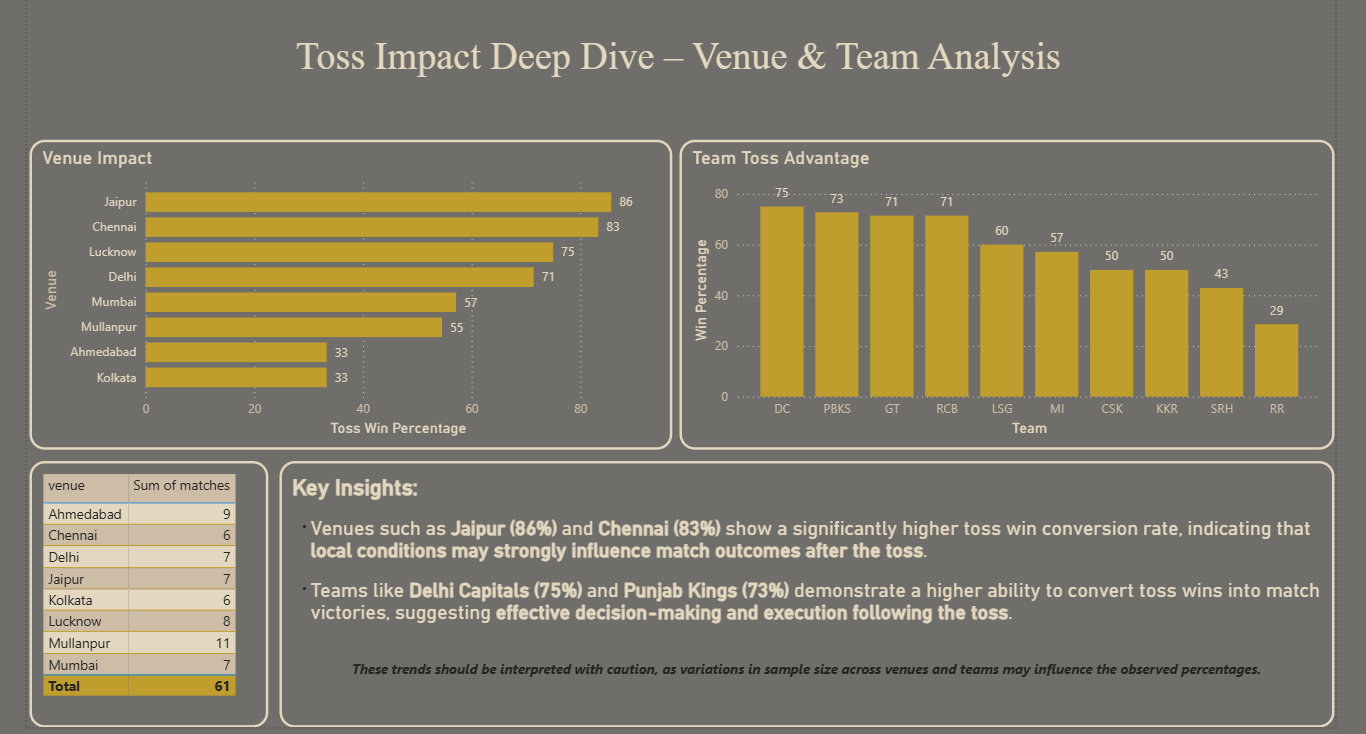

This screenshot's page, from the dashboard's own definition file:
{"tool":"powerbi","page":{"name":"venue and team","canvas":[1280,720],"ordinal":1},"visuals":[{"type":"barChart","title":"Venue Impact","fields":{"Category":["venue_impact.venue"],"Y":["Sum(venue_impact.toss_win_pct)"]},"box":[2.4,145.5,628.5,303.3],"z":0},{"type":"columnChart","title":"Team Toss Advantage","fields":{"Category":["team_impact.team"],"Y":["Sum(team_impact.win_pct)"]},"box":[638.3,145.5,640.8,303.3],"z":1000},{"type":"tableEx","title":"Matches by Venue (Sample Size)","fields":{"Values":["venue_impact.venue","Sum(venue_impact.matches)"]},"box":[2.7,459.7,233.3,260.7],"z":2000},{"type":"textbox","box":[247,459.8,1032.1,260.5],"z":3000},{"type":"textbox","box":[258,36.7,786.3,74.6],"z":4000}]}

Visuals, with their boxes on the page's 1280x720 design canvas (x1, y1, x2, y2). These are canvas units, not pixel positions in the 1366x734 screenshot, which may show the page scaled, cropped or inside an application window:
"Venue Impact" barChart: bbox(2, 146, 631, 449)
"Team Toss Advantage" columnChart: bbox(638, 146, 1279, 449)
"Matches by Venue (Sample Size)" tableEx: bbox(3, 460, 236, 720)
textbox: bbox(247, 460, 1279, 720)
textbox: bbox(258, 37, 1044, 111)
